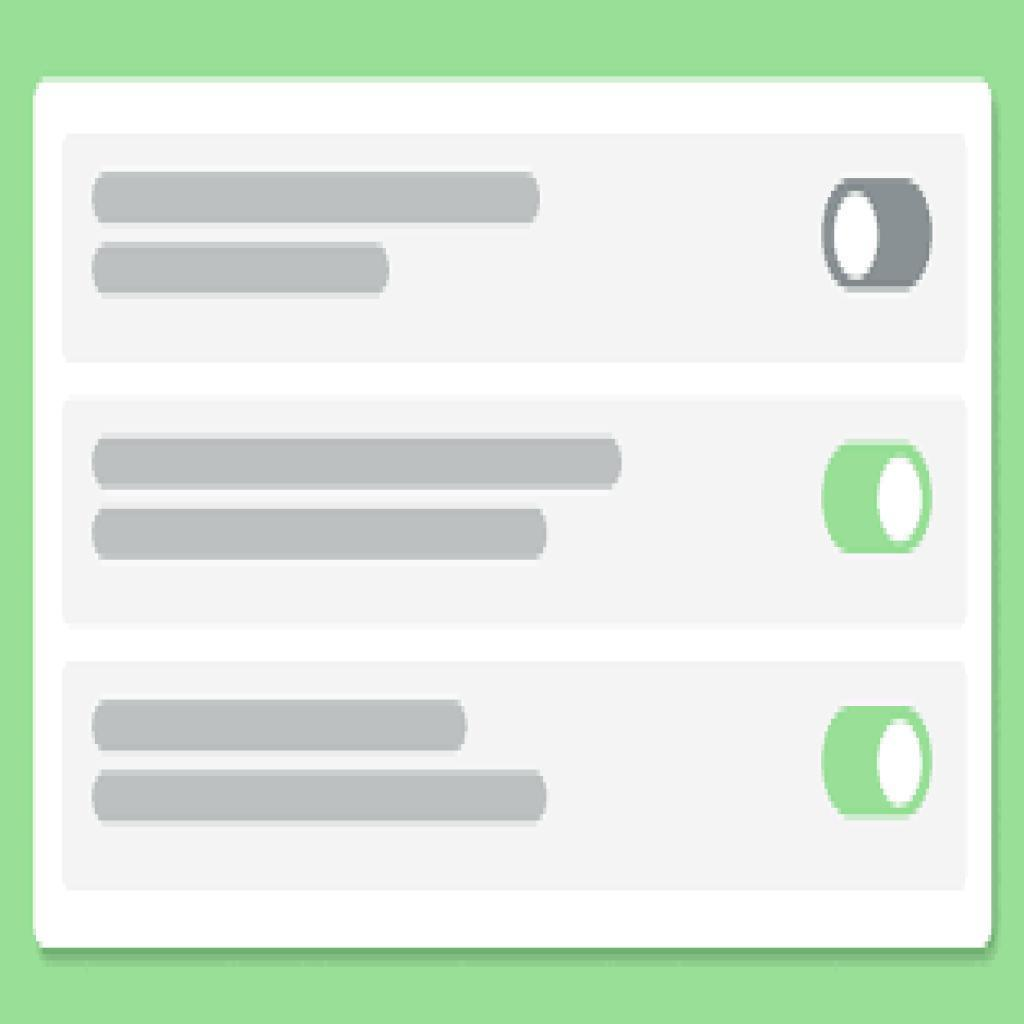switch: (814, 163, 949, 308), (814, 424, 939, 571), (819, 691, 936, 834)
